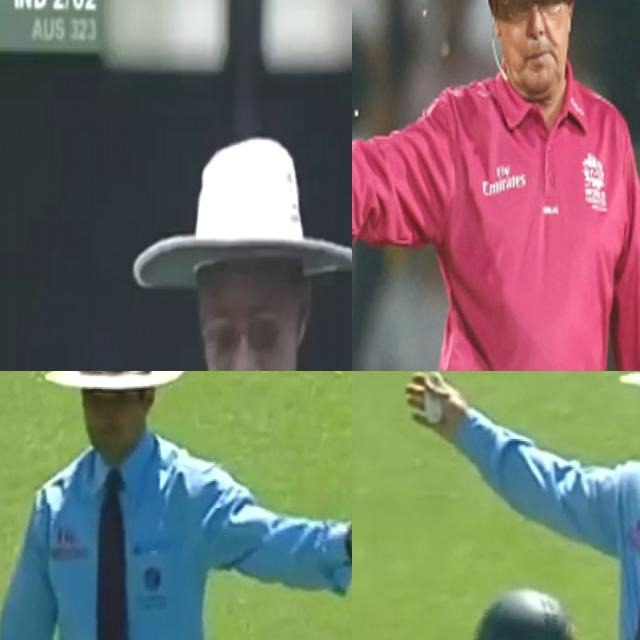No_Action: (66, 121, 352, 371)
No_Ball: (352, 0, 640, 371), (0, 371, 352, 640)
Wide: (372, 371, 640, 640)
